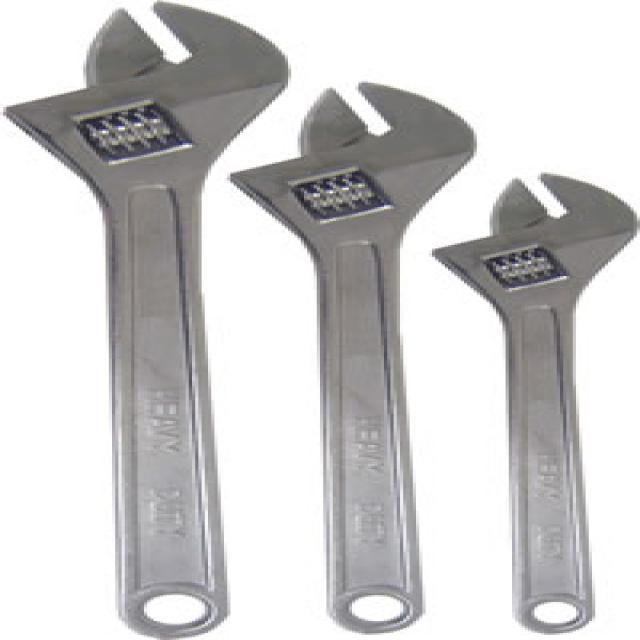wrench: (224, 77, 516, 630), (2, 0, 249, 640), (420, 153, 640, 639)
